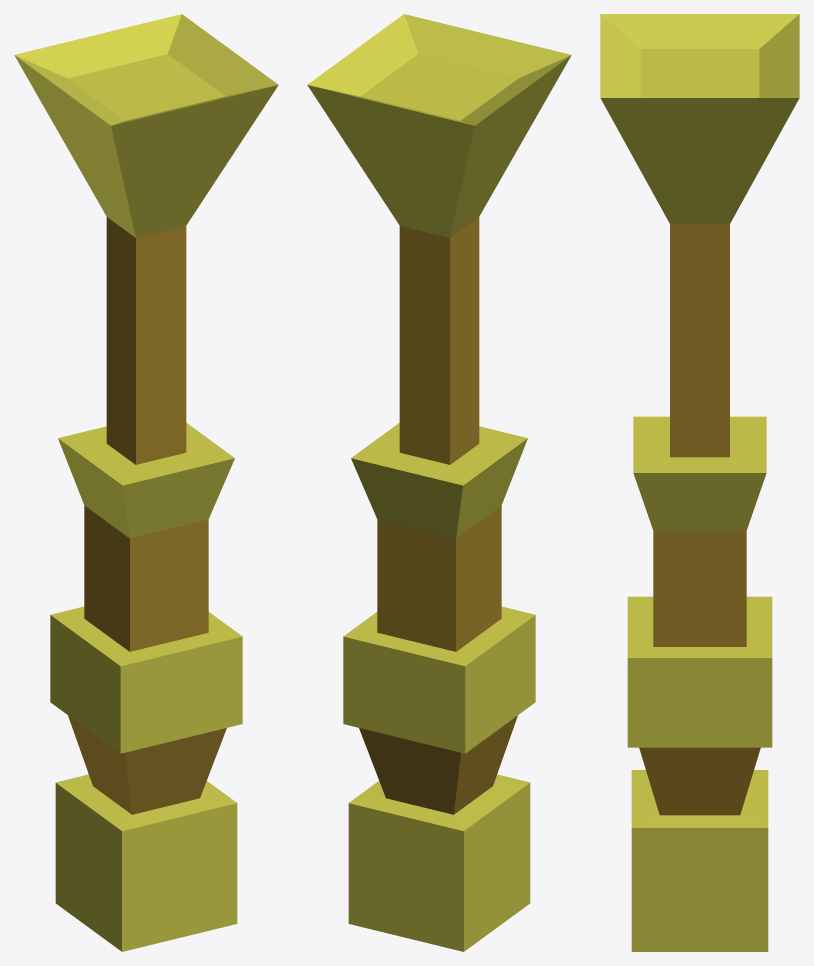
File: desertpillar3.fbx
3 renders of one model, left to right at view 1: azimuth 30°, elevation 25°; view 2: azimuth 150°, elevation 25°; view 3: azimuth 270°, elevation 25°, orthographic. The views are drawn at different scales.
Parts seen in each view (by area): view 1: Cube; view 2: Cube; view 3: Cube.
Boxes of the visible parts, x1,y1,x2,y2 form: Cube: (14, 14, 278, 951); Cube: (307, 14, 571, 951); Cube: (600, 14, 799, 951).
Bounding box in the file's own units: 291 × 1398 × 291.
